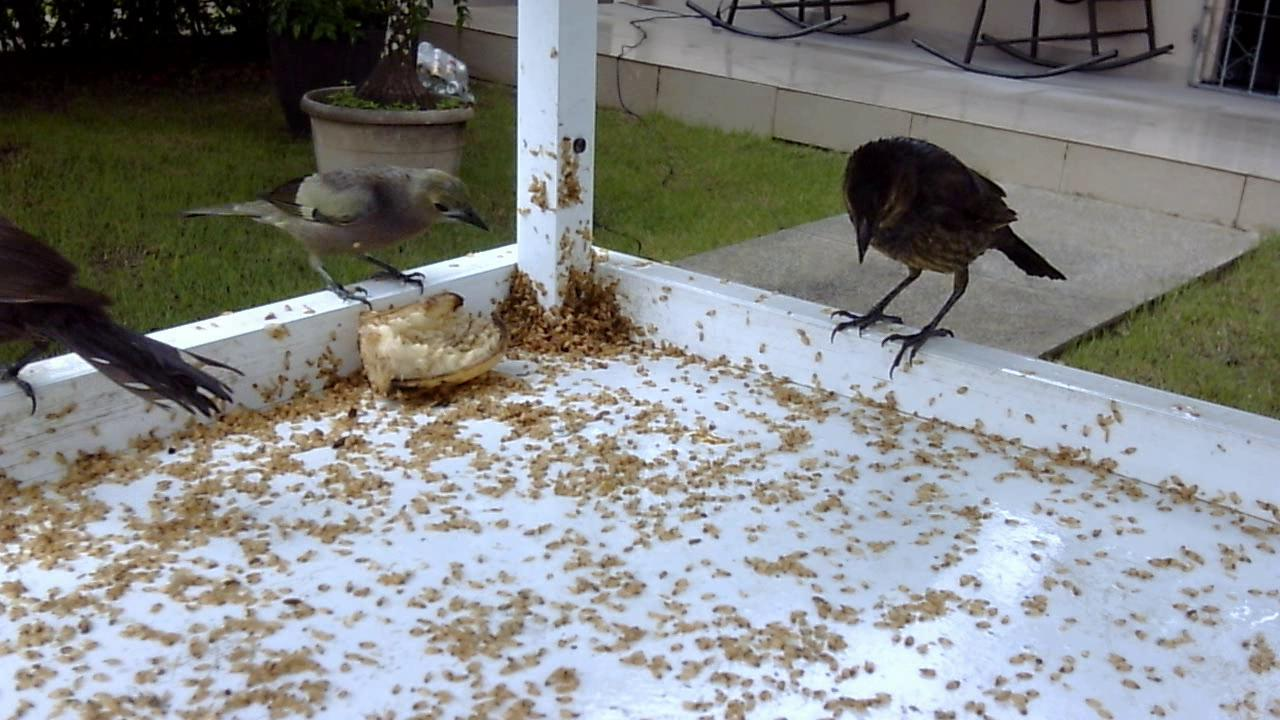chupim: (814, 130, 1075, 387), (1, 206, 253, 444)
sanhaco_do_coqueiro: (173, 144, 493, 319)
